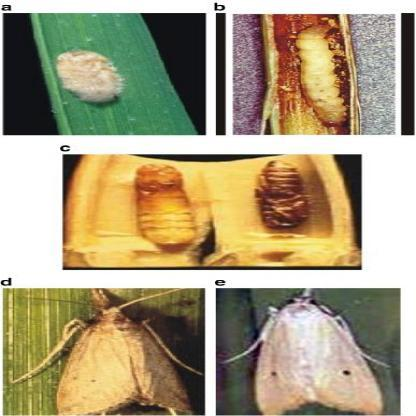stem-borer: (29, 289, 195, 416), (226, 289, 392, 416)
